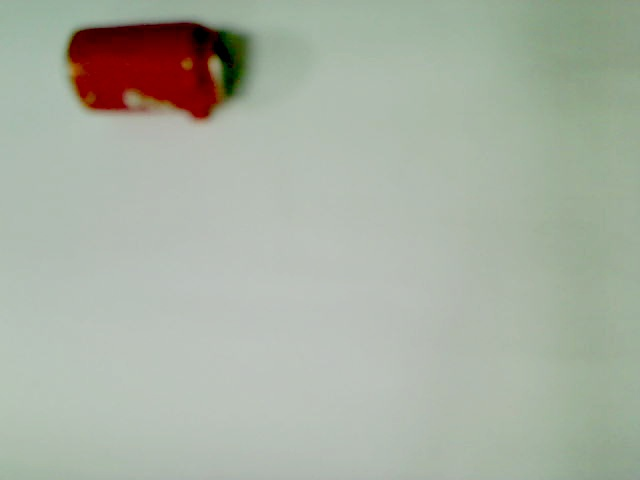can: (61, 21, 239, 124)
